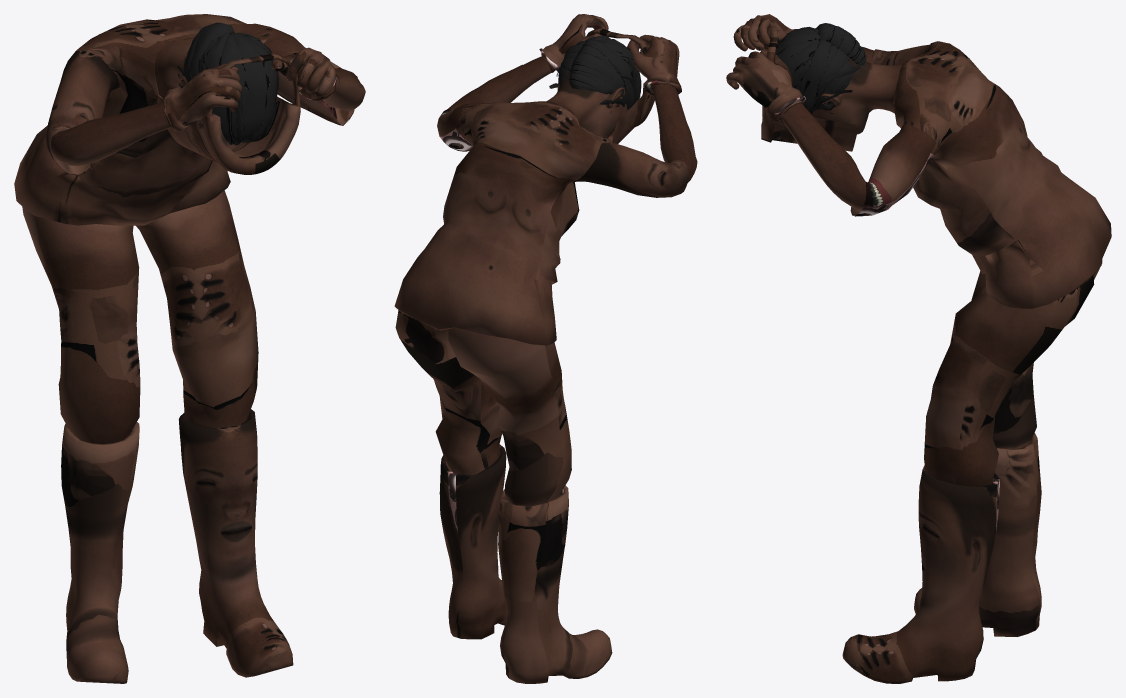
The model's file is FemaleAvatar_Doffing_Screenshots.fbx.
The picture shows the model from 3 angles, left to right: view 1: azimuth 30°, elevation 25°; view 2: azimuth 150°, elevation 25°; view 3: azimuth 270°, elevation 25°; orthographic projection. The views are drawn at different scales.
Parts seen in each view (by area): view 1: Bottoms, Boots, Tops, Body, Hair, Face Shield, Gloves1; view 2: Tops, Boots, Bottoms, Body, Hair, Gloves1, Face Shield, Gloves 2; view 3: Tops, Boots, Bottoms, Body, Hair, Gloves1, Face Shield, Gloves 2.
Boxes of the visible parts, bbox=[...] form: Bottoms: bbox=[22, 190, 258, 443]; Boots: bbox=[61, 409, 293, 683]; Tops: bbox=[14, 14, 357, 225]; Body: bbox=[50, 26, 365, 165]; Hair: bbox=[177, 22, 279, 145]; Face Shield: bbox=[157, 53, 300, 174]; Gloves1: bbox=[163, 47, 336, 128]; Tops: bbox=[394, 101, 688, 345]; Boots: bbox=[439, 444, 612, 683]; Bottoms: bbox=[395, 310, 571, 505]; Body: bbox=[448, 15, 697, 182]; Hair: bbox=[549, 35, 641, 112]; Gloves1: bbox=[539, 14, 681, 95]; Face Shield: bbox=[586, 28, 654, 143]; Gloves 2: bbox=[541, 16, 678, 92]; Tops: bbox=[850, 41, 1111, 308]; Boots: bbox=[842, 432, 1041, 683]; Bottoms: bbox=[924, 261, 1102, 486]; Body: bbox=[741, 20, 924, 210]; Hair: bbox=[775, 23, 866, 114]; Gloves1: bbox=[726, 15, 805, 122]; Face Shield: bbox=[761, 26, 857, 151]; Gloves 2: bbox=[735, 14, 803, 121].
Bounding box in the file's own units: 26.51 × 57.78 × 32.39.
3 materials, 3 textured.
